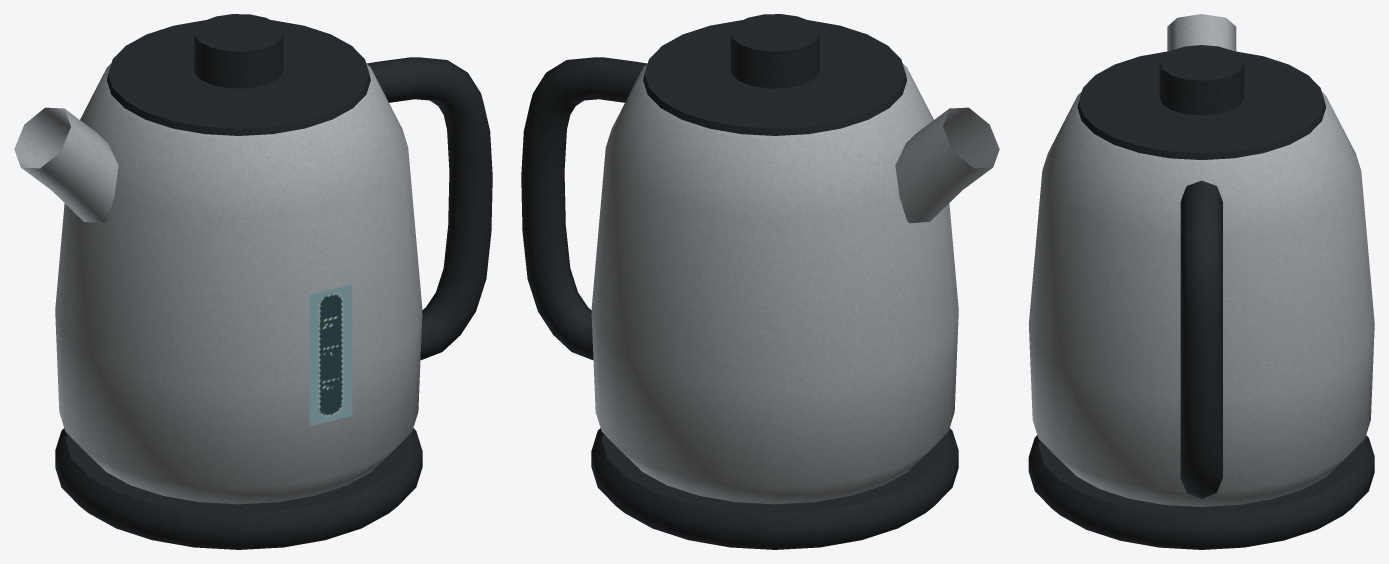
Rendered from SM_Kettle_01.fbx.
3 views of the same model, side by side, from view 1: azimuth 30°, elevation 25°; view 2: azimuth 150°, elevation 25°; view 3: azimuth 270°, elevation 25° (orthographic). The views are drawn at different scales.
Visible parts, largest first — view 1: SM_Kettle_01_Body, SM_Kettle_01_Base; view 2: SM_Kettle_01_Body, SM_Kettle_01_Base; view 3: SM_Kettle_01_Body, SM_Kettle_01_Base.
Part boxes in pixels (x1,y1,x2,y2): SM_Kettle_01_Body: (14, 14, 492, 504); SM_Kettle_01_Base: (55, 428, 422, 549); SM_Kettle_01_Body: (521, 14, 999, 504); SM_Kettle_01_Base: (591, 428, 958, 549); SM_Kettle_01_Body: (1028, 14, 1374, 506); SM_Kettle_01_Base: (1028, 435, 1374, 549).
Size of the model in its own units: 0.2658 by 0.24 by 0.1803.
